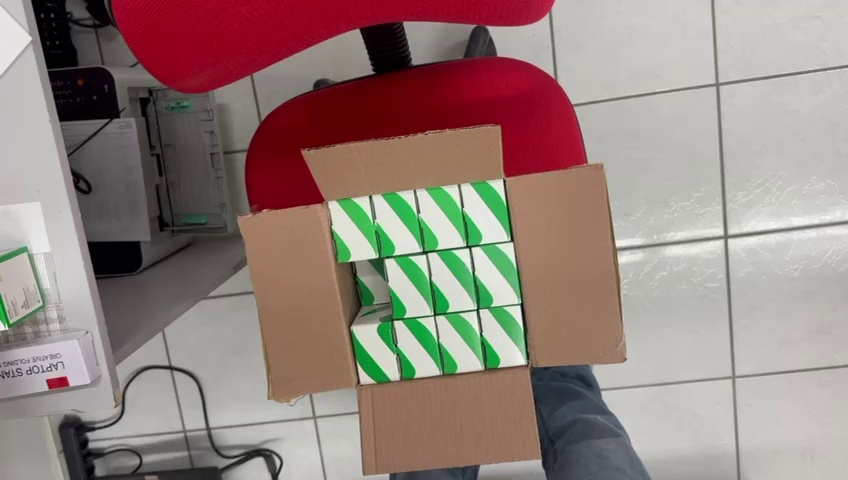divisor: (343, 301, 408, 387), (0, 241, 49, 335), (468, 239, 527, 312), (367, 188, 426, 260), (413, 181, 470, 255), (321, 195, 383, 263), (382, 250, 438, 323), (478, 300, 531, 376), (390, 315, 447, 385), (425, 245, 479, 318), (459, 177, 514, 248), (433, 308, 486, 377)
